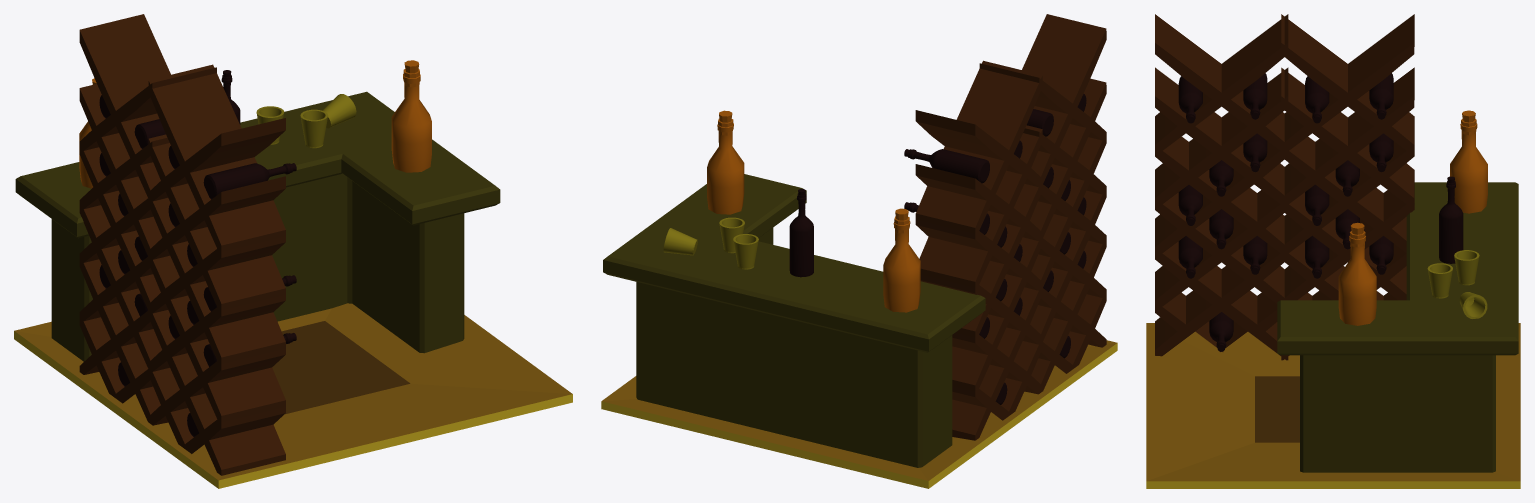
The model's file is SM_Bar.fbx.
3 views of the same model, side by side, from view 1: azimuth 30°, elevation 25°; view 2: azimuth 150°, elevation 25°; view 3: azimuth 270°, elevation 25° (orthographic). The views are drawn at different scales.
Parts seen in each view (by area): view 1: Cylinder002; view 2: Cylinder002; view 3: Cylinder002.
Boxes of the visible parts, box(x1,y1,x2,y2) form: Cylinder002: box(14, 14, 572, 488); Cylinder002: box(601, 14, 1117, 488); Cylinder002: box(1146, 14, 1520, 488).
Bounding box in the file's own units: 39.37 × 37.23 × 39.37.
